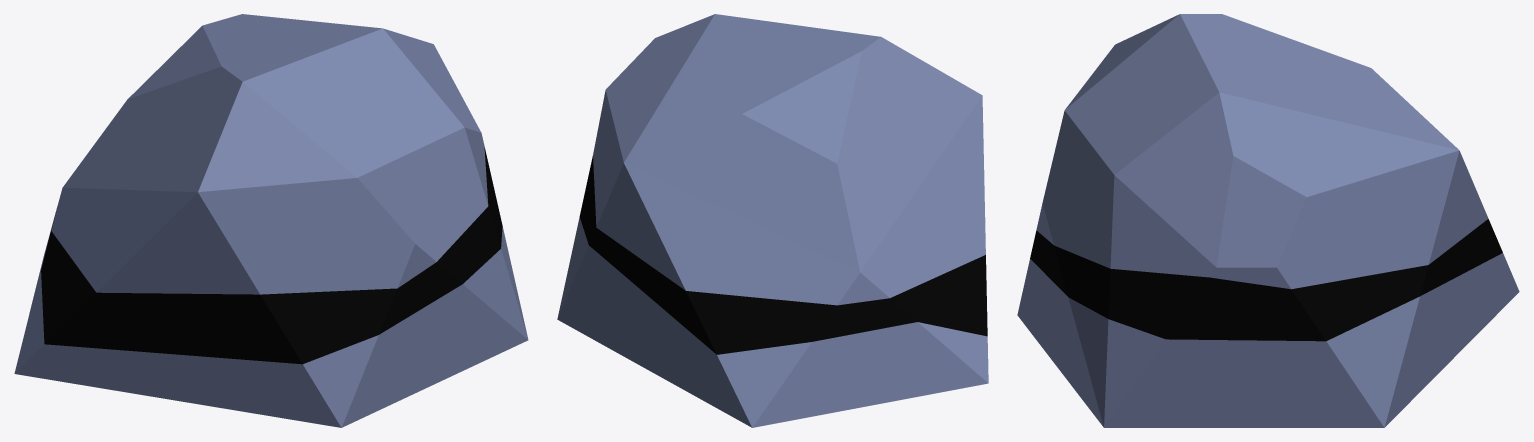
File: Rock Granit Gold 04.fbx
3 views of the same model, side by side, from view 1: azimuth 30°, elevation 25°; view 2: azimuth 150°, elevation 25°; view 3: azimuth 270°, elevation 25° (orthographic). The views are drawn at different scales.
Parts seen in each view (by area): view 1: Rock Granit Gold 04; view 2: Rock Granit Gold 04; view 3: Rock Granit Gold 04.
Boxes of the visible parts, bbox=[...] form: Rock Granit Gold 04: bbox=[14, 14, 528, 427]; Rock Granit Gold 04: bbox=[557, 14, 988, 427]; Rock Granit Gold 04: bbox=[1017, 14, 1519, 427].
Bounding box in the file's own units: 149 × 96.95 × 151.
